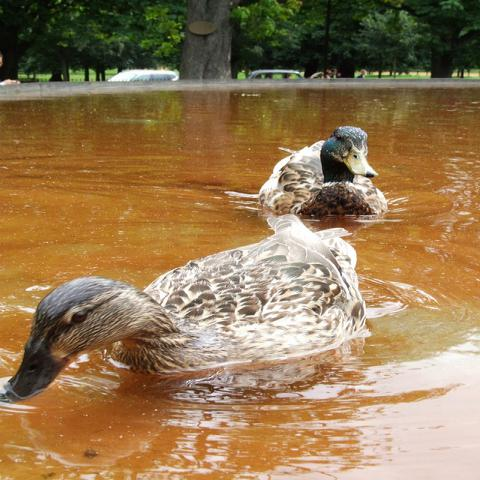car: (107, 69, 180, 81), (246, 69, 306, 79)
